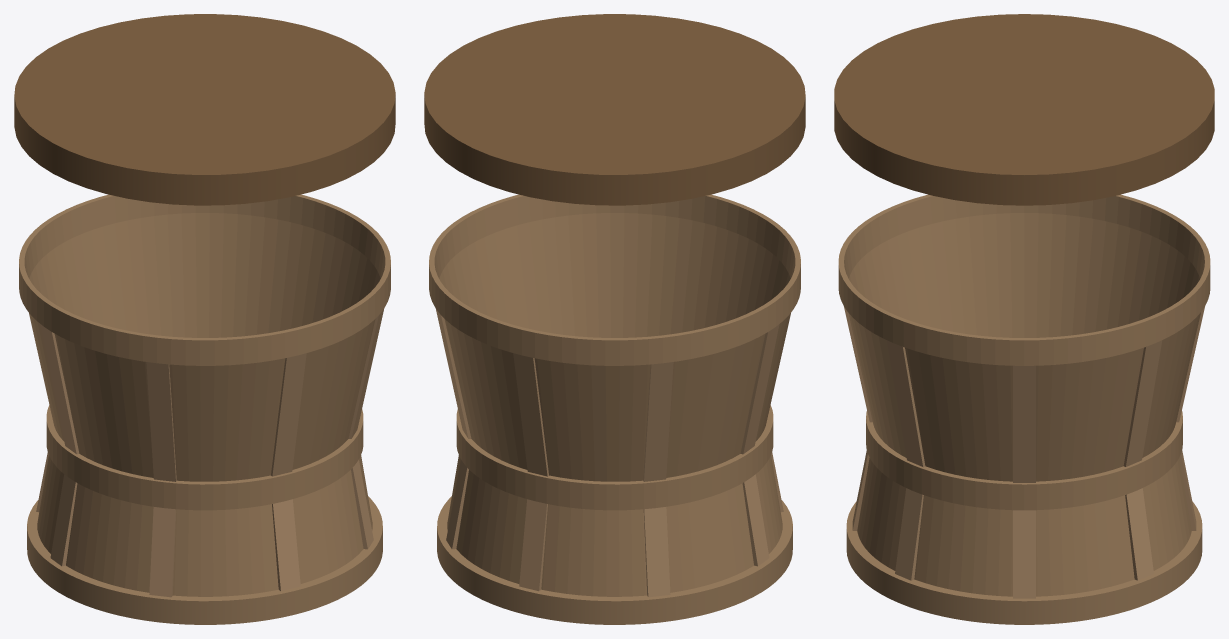
File: steamer.fbx
The picture shows the model from 3 angles, left to right: view 1: azimuth 30°, elevation 25°; view 2: azimuth 150°, elevation 25°; view 3: azimuth 270°, elevation 25°; orthographic projection.
Parts seen in each view (by area): view 1: pCylinder2, pCylinder3, pCube20, pCube21, pCube4, pCube5, pCube19, pCube3, pCube6, pCube22; view 2: pCylinder2, pCylinder3, pCube18, pCube17, pCube2, pCube1, pCube19, pCube3, pCube8, pCube16; view 3: pCylinder2, pCylinder3, pCube15, pCube16, pCube22, pCube7, pCube8, pCube6.
Boxes of the visible parts, <box> form: pCylinder2: <box>19,194,390,624</box>; pCylinder3: <box>14,14,395,205</box>; pCube20: <box>146,362,176,481</box>; pCube21: <box>271,353,306,476</box>; pCube4: <box>149,507,176,597</box>; pCube5: <box>272,499,300,591</box>; pCube19: <box>40,324,79,454</box>; pCube3: <box>50,474,77,566</box>; pCube6: <box>351,459,373,549</box>; pCube22: <box>348,308,384,438</box>; pCylinder2: <box>429,194,800,624</box>; pCylinder3: <box>424,14,805,205</box>; pCube18: <box>643,362,673,481</box>; pCube17: <box>513,353,548,476</box>; pCube2: <box>643,507,670,597</box>; pCube1: <box>519,499,547,591</box>; pCube19: <box>740,324,779,454</box>; pCube3: <box>742,474,769,566</box>; pCube8: <box>446,459,468,549</box>; pCube16: <box>435,308,471,438</box>; pCylinder2: <box>838,194,1210,624</box>; pCylinder3: <box>834,14,1214,205</box>; pCube15: <box>1013,365,1035,482</box>; pCube16: <box>1123,340,1162,466</box>; pCube22: <box>886,340,925,466</box>; pCube7: <box>1013,510,1035,598</box>; pCube8: <box>1125,488,1153,580</box>; pCube6: <box>895,488,923,580</box>.
Bounding box in the file's own units: 5.08 × 6.69 × 5.07.
